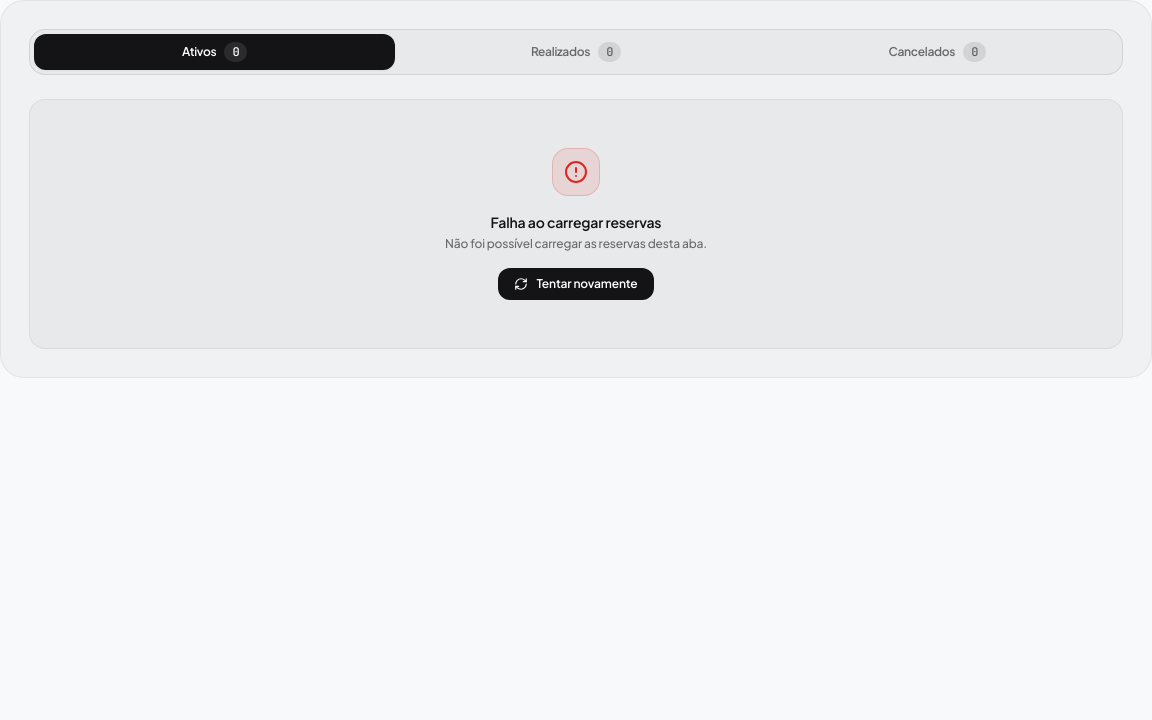
Test: ClientBookingsList (Server-side Pagination) › exibe estado de erro e permite tentar novamente com reload
The image size is (1152, 720).
Click the button "Tentar novamente" at (576, 284), box [498,268,654,300]
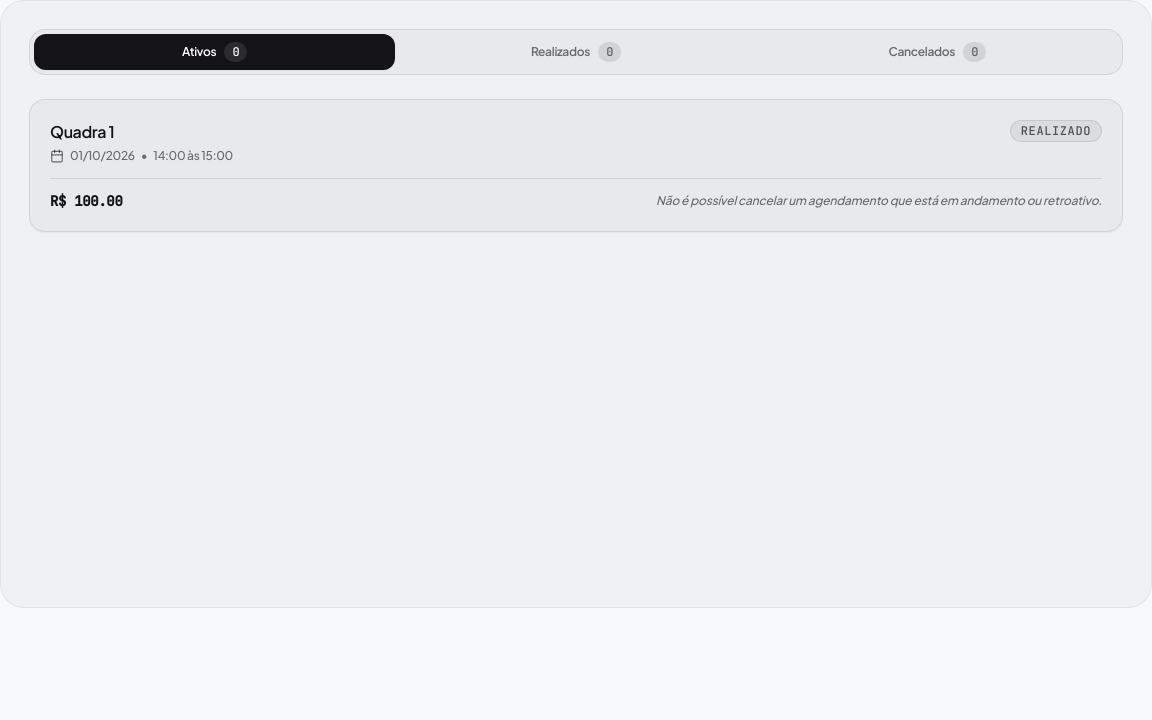
Now the text "Quadra 1" is shown, box [50,121,114,142]
